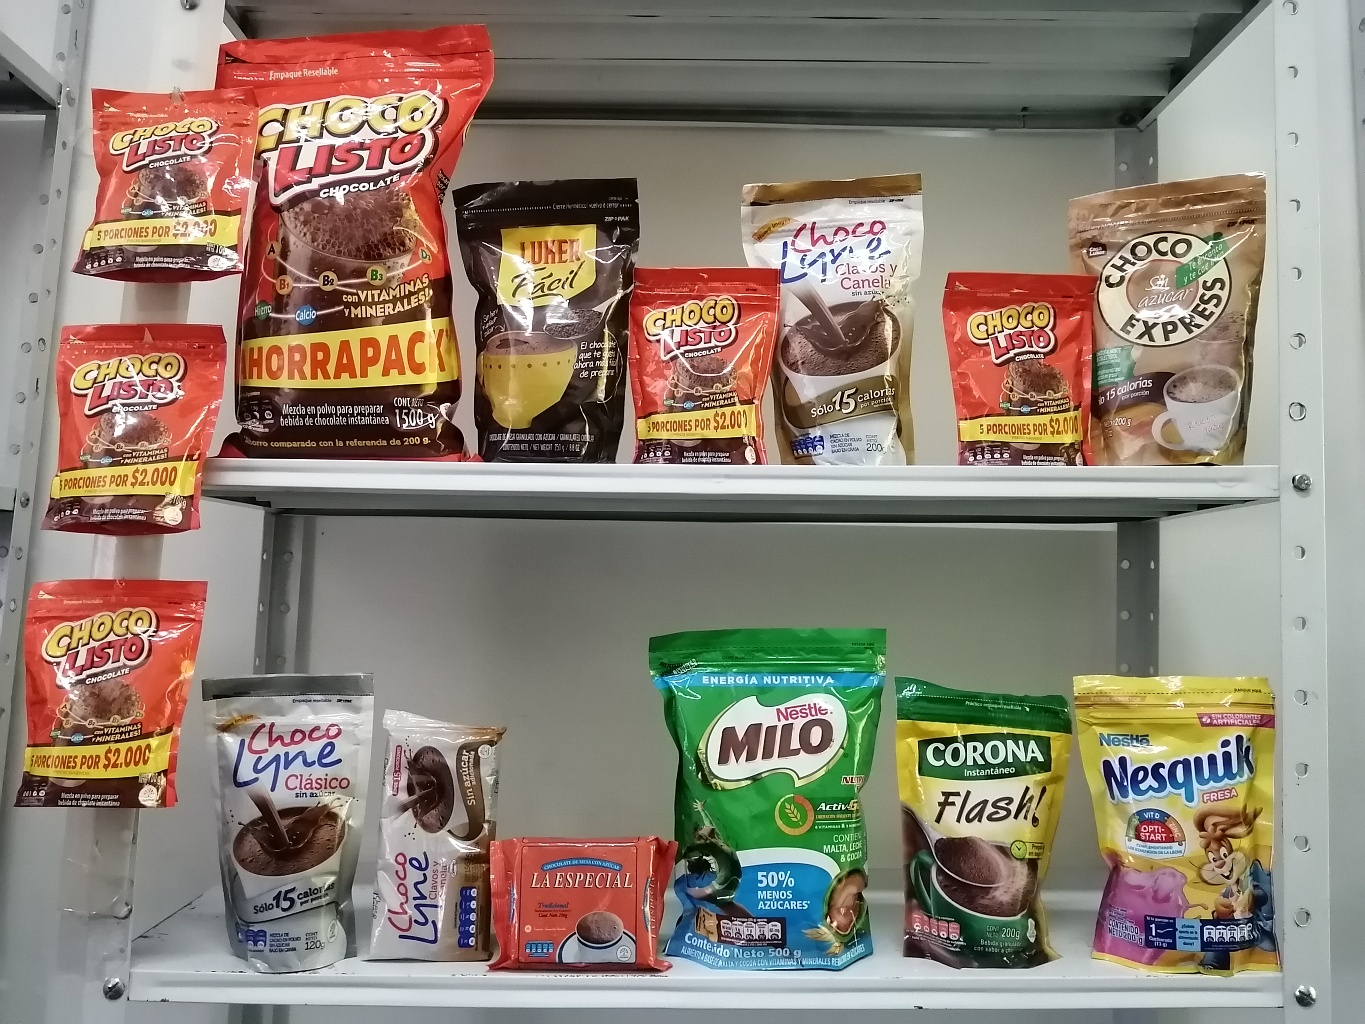COL0170103DYP1,500: (213, 18, 490, 464)
COL0170205DYP50000: (641, 614, 898, 975)
